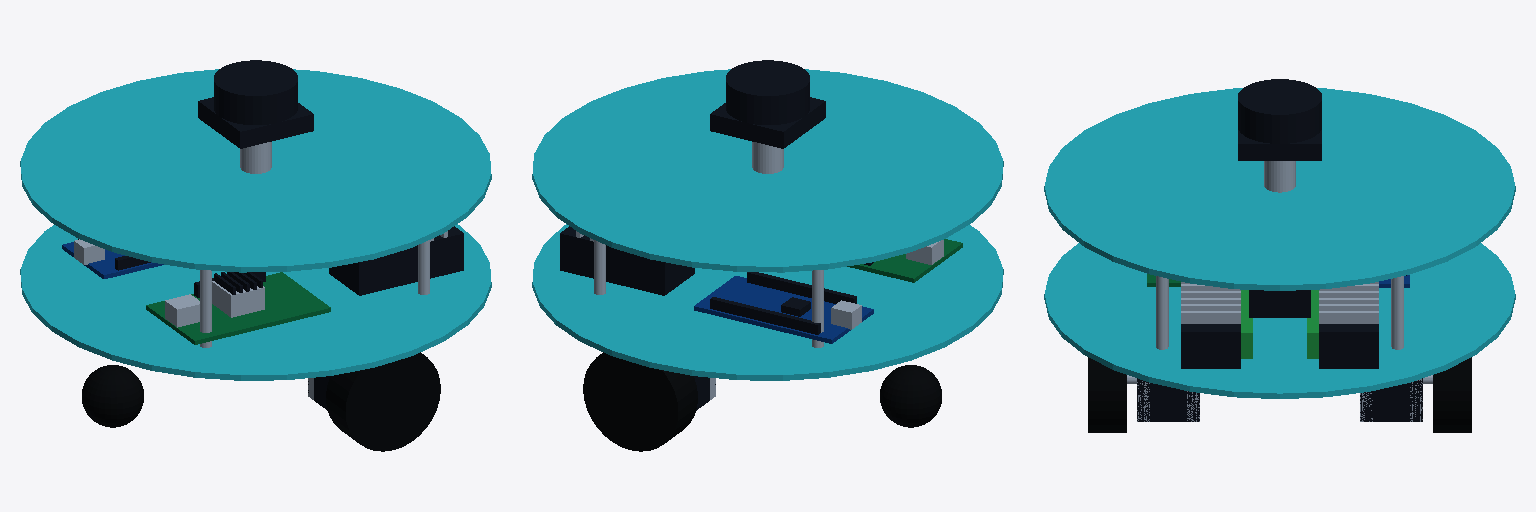
URDF robot description (vacuum):
<robot name="vacuum">
  <material name="acrylic">
    <color rgba=".17 .70 .77 .55" />
  </material>
  <material name="rubber">
    <color rgba=".055 .065 .075 1" />
  </material>
  <material name="sensor">
    <color rgba=".08 .10 .14 1" />
  </material>
  <link name="base_footprint" />
  <joint name="base_joint" type="fixed">
    <parent link="base_footprint" />
    <child link="base_link" />
    <origin xyz="-0.03 0 0.116" />
  </joint>
  <link name="base_link">
    <inertial>
      <mass value="3.0" />
      <inertia ixx="0.018475000000000002" ixy="0" ixz="0" iyy="0.018475000000000002" iyz="0" izz="0.03375" />
    </inertial>
    <collision>
      <origin xyz="0 0 0" />
      <geometry>
        <box size="0.3 0.3 0.08" />
      </geometry>
    </collision>
    <visual name="lower_acrylic_chassis">
      <origin xyz="0 0 -0.038" rpy="0 0 0" />
      <geometry>
        <cylinder radius="0.15" length="0.004" />
      </geometry>
      <material name="lower_acrylic_chassis_colour">
        <color rgba="0.17 0.7 0.77 0.55" />
      </material>
    </visual>
    <visual name="upper_acrylic_chassis">
      <origin xyz="0 0 0.038" rpy="0 0 0" />
      <geometry>
        <cylinder radius="0.15" length="0.004" />
      </geometry>
      <material name="upper_acrylic_chassis_colour">
        <color rgba="0.17 0.7 0.77 0.55" />
      </material>
    </visual>
    <visual name="standoff_-0.08_-0.075">
      <origin xyz="-0.08 -0.075 0" rpy="0 0 0" />
      <geometry>
        <cylinder radius="0.004" length="0.072" />
      </geometry>
      <material name="standoff_neg0_08_neg0_075_colour">
        <color rgba="0.62 0.68 0.75 1" />
      </material>
    </visual>
    <visual name="standoff_-0.08_0.075">
      <origin xyz="-0.08 0.075 0" rpy="0 0 0" />
      <geometry>
        <cylinder radius="0.004" length="0.072" />
      </geometry>
      <material name="standoff_neg0_08_0_075_colour">
        <color rgba="0.62 0.68 0.75 1" />
      </material>
    </visual>
    <visual name="standoff_0.08_-0.075">
      <origin xyz="0.08 -0.075 0" rpy="0 0 0" />
      <geometry>
        <cylinder radius="0.004" length="0.072" />
      </geometry>
      <material name="standoff_0_08_neg0_075_colour">
        <color rgba="0.62 0.68 0.75 1" />
      </material>
    </visual>
    <visual name="standoff_0.08_0.075">
      <origin xyz="0.08 0.075 0" rpy="0 0 0" />
      <geometry>
        <cylinder radius="0.004" length="0.072" />
      </geometry>
      <material name="standoff_0_08_0_075_colour">
        <color rgba="0.62 0.68 0.75 1" />
      </material>
    </visual>
  </link>
  <link name="left_wheel">
    <inertial>
      <mass value="0.12" />
      <inertia ixx="4.2999999999999995e-05" ixy="0" ixz="0" iyy="7.350000000000001e-05" iyz="0" izz="4.2999999999999995e-05" />
    </inertial>
    <visual>
      <origin rpy="1.5707963267948966 0 0" />
      <geometry>
        <cylinder length="0.025" radius="0.035" />
      </geometry>
      <material name="left_wheel_edited_2">
        <color rgba="0.055 0.065 0.075 1" />
      </material>
    </visual>
    <collision>
      <origin rpy="1.5707963267948966 0 0" />
      <geometry>
        <cylinder length="0.025" radius="0.035" />
      </geometry>
    </collision>
  </link>
  <joint name="left_wheel_joint" type="continuous">
    <parent link="base_link" />
    <child link="left_wheel" />
    <origin xyz="0.03 0.11 -0.081" rpy="0 0 0" />
    <axis xyz="0 1 0" />
    <limit effort="3.0" velocity="70.0" />
    <dynamics damping="0.01" friction="0.0" />
  </joint>
  <link name="right_wheel">
    <inertial>
      <mass value="0.12" />
      <inertia ixx="4.2999999999999995e-05" ixy="0" ixz="0" iyy="7.350000000000001e-05" iyz="0" izz="4.2999999999999995e-05" />
    </inertial>
    <visual>
      <origin rpy="1.5707963267948966 0 0" />
      <geometry>
        <cylinder length="0.025" radius="0.035" />
      </geometry>
      <material name="right_wheel_edited_2">
        <color rgba="0.055 0.065 0.075 1" />
      </material>
    </visual>
    <collision>
      <origin rpy="1.5707963267948966 0 0" />
      <geometry>
        <cylinder length="0.025" radius="0.035" />
      </geometry>
    </collision>
  </link>
  <joint name="right_wheel_joint" type="continuous">
    <parent link="base_link" />
    <child link="right_wheel" />
    <origin xyz="0.03 -0.11 -0.081" rpy="0 0 0" />
    <axis xyz="0 1 0" />
    <limit effort="3.0" velocity="70.0" />
    <dynamics damping="0.01" friction="0.0" />
  </joint>
  <joint name="caster_joint" type="fixed">
    <parent link="base_link" />
    <child link="caster" />
    <origin xyz="-0.105 0 -0.096" rpy="0 0 0" />
  </joint>
  <link name="caster">
    <inertial>
      <mass value="0.08" />
      <inertia ixx="0.0000128" ixy="0" ixz="0" iyy="0.0000128" iyz="0" izz="0.0000128" />
    </inertial>
    <visual>
      <geometry>
        <sphere radius="0.02" />
      </geometry>
      <material name="caster_edited_1">
        <color rgba="0.055 0.065 0.075 1" />
      </material>
    </visual>
    <collision>
      <geometry>
        <sphere radius="0.02" />
      </geometry>
    </collision>
  </link>
  <joint name="lidar_joint" type="fixed">
    <parent link="base_link" />
    <child link="lidar_link" />
    <origin xyz="0 0 0.085" rpy="0 0 0" />
  </joint>
  <link name="lidar_link">
    <inertial>
      <mass value="0.05" />
      <inertia ixx="0.00001" ixy="0" ixz="0" iyy="0.00001" iyz="0" izz="0.00002" />
    </inertial>
    <collision>
      <geometry>
        <cylinder length="0.025" radius="0.03" />
      </geometry>
    </collision>
    <visual name="rplidar_mount_standoff">
      <origin xyz="0 0 -0.03" />
      <geometry>
        <cylinder length="0.032" radius="0.01" />
      </geometry>
      <material name="lidar_link_edited_2">
        <color rgba="0.62 0.68 0.75 1" />
      </material>
    </visual>
    <visual name="rplidar_c1_base">
      <origin xyz="0 0 -0.009" />
      <geometry>
        <box size="0.054 0.054 0.012" />
      </geometry>
      <material name="lidar_link_edited_2">
        <color rgba="0.08 0.1 0.14 1" />
      </material>
    </visual>
    <visual name="rplidar_c1_scanner">
      <origin xyz="0 0 0.005" />
      <geometry>
        <cylinder length="0.025" radius="0.027" />
      </geometry>
      <material name="lidar_link_edited_2">
        <color rgba="0.08 0.1 0.14 1" />
      </material>
    </visual>
    <visual name="rplidar_c1_accent">
      <origin xyz="0 0 0.015" />
      <geometry>
        <cylinder length="0.004" radius="0.025" />
      </geometry>
      <material name="lidar_link_edited_2">
        <color rgba="0.95 0.58 0.18 1" />
      </material>
    </visual>
  </link>
  <joint name="camera_joint" type="fixed">
    <parent link="base_link" />
    <child link="camera_link" />
    <origin xyz="0.1325 0 0.025" rpy="0 0 0" />
  </joint>
  <link name="camera_link">
    <inertial>
      <mass value="0.03" />
      <inertia ixx="0.000004" ixy="0" ixz="0" iyy="0.000004" iyz="0" izz="0.000004" />
    </inertial>
    <visual>
      <geometry>
        <box size="0.015 0.04 0.025" />
      </geometry>
      <material name="camera_link_edited_1">
        <color rgba="0.08 0.1 0.14 1" />
      </material>
    </visual>
  </link>
  <joint name="camera_optical_joint" type="fixed">
    <parent link="camera_link" />
    <child link="camera_optical_frame" />
    <origin rpy="-1.5707963267948966 0 -1.5707963267948966" />
  </joint>
  <link name="camera_optical_frame" />
  <material name="aluminium">
    <color rgba=".62 .68 .75 1" />
  </material>
  <material name="pcb">
    <color rgba=".06 .42 .25 1" />
  </material>
  <material name="pcb_blue">
    <color rgba=".06 .25 .52 1" />
  </material>
  <material name="copper">
    <color rgba=".95 .58 .18 1" />
  </material>
  <material name="terminal">
    <color rgba=".15 .61 .29 1" />
  </material>
  <joint name="left_nema17_mount" type="fixed">
    <parent link="base_link" />
    <child link="left_nema17" />
    <origin xyz="0.03 0.071 -0.081" rpy="0 0 0" />
  </joint>
  <link name="left_nema17">
    <inertial>
      <mass value="0.25" />
      <inertia ixx="7.061020833333332e-05" ixy="0" ixz="0" iyy="7.455374999999999e-05" iyz="0" izz="7.061020833333332e-05" />
    </inertial>
    <visual name="left_nema17_body">
      <origin xyz="0 0 0" />
      <geometry>
        <box size="0.0423 0.04 0.0423" />
      </geometry>
      <material name="left_nema17_edited_2">
        <color rgba="0.08 0.1 0.14 1" />
      </material>
    </visual>
    <visual name="endplate_-0.016">
      <origin xyz="0 -0.016 0" />
      <geometry>
        <box size="0.0423 0.008 0.0423" />
      </geometry>
      <material name="left_nema17_edited_2">
        <color rgba="0.62 0.68 0.75 1" />
      </material>
    </visual>
    <visual name="endplate_0.016">
      <origin xyz="0 0.016 0" />
      <geometry>
        <box size="0.0423 0.008 0.0423" />
      </geometry>
      <material name="left_nema17_edited_2">
        <color rgba="0.62 0.68 0.75 1" />
      </material>
    </visual>
    <visual name="shaft_and_hub">
      <origin rpy="1.5707963267948966 0 0" xyz="0 0.031 0" />
      <geometry>
        <cylinder length="0.023" radius="0.004" />
      </geometry>
      <material name="left_nema17_edited_2">
        <color rgba="0.62 0.68 0.75 1" />
      </material>
    </visual>
    <visual name="under_chassis_mount">
      <origin xyz="0 0 0.03" />
      <geometry>
        <box size="0.043 0.042 0.018" />
      </geometry>
      <material name="left_nema17_edited_2">
        <color rgba="0.62 0.68 0.75 1" />
      </material>
    </visual>
  </link>
  <joint name="left_tb6600_mount" type="fixed">
    <parent link="base_link" />
    <child link="left_tb6600" />
    <origin xyz="0.078 0.044 -0.021" rpy="0 0 0" />
  </joint>
  <link name="left_tb6600">
    <inertial>
      <mass value="0.1" />
      <inertia ixx="1.7666666666666668e-05" ixy="0" ixz="0" iyy="5.504166666666667e-05" iyz="0" izz="6.144166666666668e-05" />
    </inertial>
    <visual name="left_tb6600_body">
      <origin xyz="0 0 0" />
      <geometry>
        <box size="0.077 0.038 0.026" />
      </geometry>
      <material name="left_tb6600_edited_2">
        <color rgba="0.08 0.1 0.14 1" />
      </material>
    </visual>
    <visual name="cooling_fin_-0.025">
      <origin xyz="-0.025 0 0.016" />
      <geometry>
        <box size="0.003 0.038 0.009" />
      </geometry>
      <material name="left_tb6600_edited_2">
        <color rgba="0.62 0.68 0.75 1" />
      </material>
    </visual>
    <visual name="cooling_fin_-0.015">
      <origin xyz="-0.015 0 0.016" />
      <geometry>
        <box size="0.003 0.038 0.009" />
      </geometry>
      <material name="left_tb6600_edited_2">
        <color rgba="0.62 0.68 0.75 1" />
      </material>
    </visual>
    <visual name="cooling_fin_-0.005">
      <origin xyz="-0.005 0 0.016" />
      <geometry>
        <box size="0.003 0.038 0.009" />
      </geometry>
      <material name="left_tb6600_edited_2">
        <color rgba="0.62 0.68 0.75 1" />
      </material>
    </visual>
    <visual name="cooling_fin_0.005">
      <origin xyz="0.005 0 0.016" />
      <geometry>
        <box size="0.003 0.038 0.009" />
      </geometry>
      <material name="left_tb6600_edited_2">
        <color rgba="0.62 0.68 0.75 1" />
      </material>
    </visual>
    <visual name="cooling_fin_0.015">
      <origin xyz="0.015 0 0.016" />
      <geometry>
        <box size="0.003 0.038 0.009" />
      </geometry>
      <material name="left_tb6600_edited_2">
        <color rgba="0.62 0.68 0.75 1" />
      </material>
    </visual>
    <visual name="cooling_fin_0.025">
      <origin xyz="0.025 0 0.016" />
      <geometry>
        <box size="0.003 0.038 0.009" />
      </geometry>
      <material name="left_tb6600_edited_2">
        <color rgba="0.62 0.68 0.75 1" />
      </material>
    </visual>
    <visual name="screw_terminals">
      <origin xyz="0 -0.022 0" />
      <geometry>
        <box size="0.065 0.01 0.018" />
      </geometry>
      <material name="left_tb6600_edited_2">
        <color rgba="0.15 0.61 0.29 1" />
      </material>
    </visual>
  </link>
  <joint name="right_nema17_mount" type="fixed">
    <parent link="base_link" />
    <child link="right_nema17" />
    <origin xyz="0.03 -0.071 -0.081" rpy="0 0 0" />
  </joint>
  <link name="right_nema17">
    <inertial>
      <mass value="0.25" />
      <inertia ixx="7.061020833333332e-05" ixy="0" ixz="0" iyy="7.455374999999999e-05" iyz="0" izz="7.061020833333332e-05" />
    </inertial>
    <visual name="right_nema17_body">
      <origin xyz="0 0 0" />
      <geometry>
        <box size="0.0423 0.04 0.0423" />
      </geometry>
      <material name="right_nema17_edited_2">
        <color rgba="0.08 0.1 0.14 1" />
      </material>
    </visual>
    <visual name="endplate_-0.016">
      <origin xyz="0 -0.016 0" />
      <geometry>
        <box size="0.0423 0.008 0.0423" />
      </geometry>
      <material name="right_nema17_edited_2">
        <color rgba="0.62 0.68 0.75 1" />
      </material>
    </visual>
    <visual name="endplate_0.016">
      <origin xyz="0 0.016 0" />
      <geometry>
        <box size="0.0423 0.008 0.0423" />
      </geometry>
      <material name="right_nema17_edited_2">
        <color rgba="0.62 0.68 0.75 1" />
      </material>
    </visual>
    <visual name="shaft_and_hub">
      <origin rpy="1.5707963267948966 0 0" xyz="0 -0.031 0" />
      <geometry>
        <cylinder length="0.023" radius="0.004" />
      </geometry>
      <material name="right_nema17_edited_2">
        <color rgba="0.62 0.68 0.75 1" />
      </material>
    </visual>
    <visual name="under_chassis_mount">
      <origin xyz="0 0 0.03" />
      <geometry>
        <box size="0.043 0.042 0.018" />
      </geometry>
      <material name="right_nema17_edited_2">
        <color rgba="0.62 0.68 0.75 1" />
      </material>
    </visual>
  </link>
  <joint name="right_tb6600_mount" type="fixed">
    <parent link="base_link" />
    <child link="right_tb6600" />
    <origin xyz="0.078 -0.044 -0.021" rpy="0 0 0" />
  </joint>
  <link name="right_tb6600">
    <inertial>
      <mass value="0.1" />
      <inertia ixx="1.7666666666666668e-05" ixy="0" ixz="0" iyy="5.504166666666667e-05" iyz="0" izz="6.144166666666668e-05" />
    </inertial>
    <visual name="right_tb6600_body">
      <origin xyz="0 0 0" />
      <geometry>
        <box size="0.077 0.038 0.026" />
      </geometry>
      <material name="right_tb6600_edited_2">
        <color rgba="0.08 0.1 0.14 1" />
      </material>
    </visual>
    <visual name="cooling_fin_-0.025">
      <origin xyz="-0.025 0 0.016" />
      <geometry>
        <box size="0.003 0.038 0.009" />
      </geometry>
      <material name="right_tb6600_edited_2">
        <color rgba="0.62 0.68 0.75 1" />
      </material>
    </visual>
    <visual name="cooling_fin_-0.015">
      <origin xyz="-0.015 0 0.016" />
      <geometry>
        <box size="0.003 0.038 0.009" />
      </geometry>
      <material name="right_tb6600_edited_2">
        <color rgba="0.62 0.68 0.75 1" />
      </material>
    </visual>
    <visual name="cooling_fin_-0.005">
      <origin xyz="-0.005 0 0.016" />
      <geometry>
        <box size="0.003 0.038 0.009" />
      </geometry>
      <material name="right_tb6600_edited_2">
        <color rgba="0.62 0.68 0.75 1" />
      </material>
    </visual>
    <visual name="cooling_fin_0.005">
      <origin xyz="0.005 0 0.016" />
      <geometry>
        <box size="0.003 0.038 0.009" />
      </geometry>
      <material name="right_tb6600_edited_2">
        <color rgba="0.62 0.68 0.75 1" />
      </material>
    </visual>
    <visual name="cooling_fin_0.015">
      <origin xyz="0.015 0 0.016" />
      <geometry>
        <box size="0.003 0.038 0.009" />
      </geometry>
      <material name="right_tb6600_edited_2">
        <color rgba="0.62 0.68 0.75 1" />
      </material>
    </visual>
    <visual name="cooling_fin_0.025">
      <origin xyz="0.025 0 0.016" />
      <geometry>
        <box size="0.003 0.038 0.009" />
      </geometry>
      <material name="right_tb6600_edited_2">
        <color rgba="0.62 0.68 0.75 1" />
      </material>
    </visual>
    <visual name="screw_terminals">
      <origin xyz="0 0.022 0" />
      <geometry>
        <box size="0.065 0.01 0.018" />
      </geometry>
      <material name="right_tb6600_edited_2">
        <color rgba="0.15 0.61 0.29 1" />
      </material>
    </visual>
  </link>
  <joint name="arduino_mega_mount" type="fixed">
    <parent link="base_link" />
    <child link="arduino_mega" />
    <origin xyz="-0.044 0.056 -0.027" rpy="0 0 0" />
  </joint>
  <link name="arduino_mega">
    <inertial>
      <mass value="0.037" />
      <inertia ixx="8.787160833333333e-06" ixy="0" ixz="0" iyy="3.1805540399999995e-05" iyz="0" izz="4.053720123333333e-05" />
    </inertial>
    <visual name="arduino_mega_body">
      <origin xyz="0 0 0" />
      <geometry>
        <box size="0.10152 0.0533 0.003" />
      </geometry>
      <material name="arduino_mega_edited_2">
        <color rgba="0.06 0.25 0.52 1" />
      </material>
    </visual>
    <visual name="mega_processor">
      <origin xyz="-0.009 0 0.004" />
      <geometry>
        <box size="0.014 0.014 0.005" />
      </geometry>
      <material name="arduino_mega_edited_2">
        <color rgba="0.08 0.1 0.14 1" />
      </material>
    </visual>
    <visual name="mega_pin_headers_-0.023">
      <origin xyz="0 -0.023 0.005" />
      <geometry>
        <box size="0.079 0.004 0.007" />
      </geometry>
      <material name="arduino_mega_edited_2">
        <color rgba="0.08 0.1 0.14 1" />
      </material>
    </visual>
    <visual name="mega_pin_headers_0.023">
      <origin xyz="0 0.023 0.005" />
      <geometry>
        <box size="0.079 0.004 0.007" />
      </geometry>
      <material name="arduino_mega_edited_2">
        <color rgba="0.08 0.1 0.14 1" />
      </material>
    </visual>
    <visual name="mega_usb">
      <origin xyz="-0.046 0 0.007" />
      <geometry>
        <box size="0.015 0.013 0.012" />
      </geometry>
      <material name="arduino_mega_edited_2">
        <color rgba="0.62 0.68 0.75 1" />
      </material>
    </visual>
  </link>
  <joint name="orange_pi5_mount" type="fixed">
    <parent link="base_link" />
    <child link="orange_pi5" />
    <origin xyz="-0.044 -0.054 -0.027" rpy="0 0 0" />
  </joint>
  <link name="orange_pi5">
    <inertial>
      <mass value="0.046" />
      <inertia ixx="1.476983333333333e-05" ixy="0" ixz="0" iyy="3.836783333333334e-05" iyz="0" izz="5.3068666666666676e-05" />
    </inertial>
    <visual name="orange_pi5_body">
      <origin xyz="0 0 0" />
      <geometry>
        <box size="0.1 0.062 0.003" />
      </geometry>
      <material name="orange_pi5_edited_2">
        <color rgba="0.06 0.42 0.25 1" />
      </material>
    </visual>
    <visual name="rk3588s_heatsink">
      <origin xyz="0 0 0.009" />
      <geometry>
        <box size="0.025 0.025 0.016" />
      </geometry>
      <material name="orange_pi5_edited_2">
        <color rgba="0.62 0.68 0.75 1" />
      </material>
    </visual>
    <visual name="heatsink_fin_-0.01">
      <origin xyz="-0.01 0 0.019" />
      <geometry>
        <box size="0.002 0.025 0.006" />
      </geometry>
      <material name="orange_pi5_edited_2">
        <color rgba="0.08 0.1 0.14 1" />
      </material>
    </visual>
    <visual name="heatsink_fin_-0.005">
      <origin xyz="-0.005 0 0.019" />
      <geometry>
        <box size="0.002 0.025 0.006" />
      </geometry>
      <material name="orange_pi5_edited_2">
        <color rgba="0.08 0.1 0.14 1" />
      </material>
    </visual>
    <visual name="heatsink_fin_0">
      <origin xyz="0 0 0.019" />
      <geometry>
        <box size="0.002 0.025 0.006" />
      </geometry>
      <material name="orange_pi5_edited_2">
        <color rgba="0.08 0.1 0.14 1" />
      </material>
    </visual>
    <visual name="heatsink_fin_0.005">
      <origin xyz="0.005 0 0.019" />
      <geometry>
        <box size="0.002 0.025 0.006" />
      </geometry>
      <material name="orange_pi5_edited_2">
        <color rgba="0.08 0.1 0.14 1" />
      </material>
    </visual>
    <visual name="heatsink_fin_0.01">
      <origin xyz="0.01 0 0.019" />
      <geometry>
        <box size="0.002 0.025 0.006" />
      </geometry>
      <material name="orange_pi5_edited_2">
        <color rgba="0.08 0.1 0.14 1" />
      </material>
    </visual>
    <visual name="ethernet_port">
      <origin xyz="-0.04 0 0.007" />
      <geometry>
        <box size="0.019 0.016 0.014" />
      </geometry>
      <material name="orange_pi5_edited_2">
        <color rgba="0.62 0.68 0.75 1" />
      </material>
    </visual>
    <visual name="gpio_header">
      <origin xyz="0.009 0.026 0.006" />
      <geometry>
        <box size="0.05 0.005 0.009" />
      </geometry>
      <material name="orange_pi5_edited_2">
        <color rgba="0.08 0.1 0.14 1" />
      </material>
    </visual>
  </link>
</robot>

--- Facts derived from the render (not from the file) ---
Views: 3 orthographic renders of the robot side by side, from view 1: azimuth 30°, elevation 25°; view 2: azimuth 150°, elevation 25°; view 3: azimuth 270°, elevation 25°.
Model vacuum with 14 links and 13 joints (2 continuous, 11 fixed), rooted at base_footprint, posed every joint at zero.
Visible links, largest first — view 1: base_link, right_wheel, lidar_link, orange_pi5, right_tb6600, caster, arduino_mega; view 2: base_link, left_wheel, lidar_link, arduino_mega, left_tb6600, caster, orange_pi5; view 3: base_link, lidar_link, left_tb6600, right_tb6600, left_wheel, right_wheel, left_nema17, right_nema17, camera_link.
Boxes of the visible links, x1,y1,x2,y2 form: base_link: (20, 69, 491, 380); right_wheel: (326, 352, 440, 451); lidar_link: (198, 60, 313, 173); orange_pi5: (146, 272, 330, 344); right_tb6600: (329, 226, 463, 295); caster: (82, 365, 143, 427); arduino_mega: (62, 239, 163, 278); base_link: (532, 69, 1003, 380); left_wheel: (583, 352, 697, 451); lidar_link: (710, 60, 825, 173); arduino_mega: (694, 272, 873, 343); left_tb6600: (560, 226, 694, 295); caster: (880, 365, 941, 427); orange_pi5: (847, 239, 962, 282); base_link: (1044, 88, 1515, 398); lidar_link: (1238, 79, 1321, 192); left_tb6600: (1307, 282, 1378, 368); right_tb6600: (1181, 282, 1252, 368); left_wheel: (1433, 357, 1471, 432); right_wheel: (1088, 357, 1126, 432); left_nema17: (1360, 375, 1432, 421); right_nema17: (1127, 375, 1199, 421); camera_link: (1249, 290, 1310, 317).
Size in the robot's own frame: 0.3 by 0.3 by 0.2185 metres.
Geometry: primitives only (box / cylinder / sphere), no mesh files.
